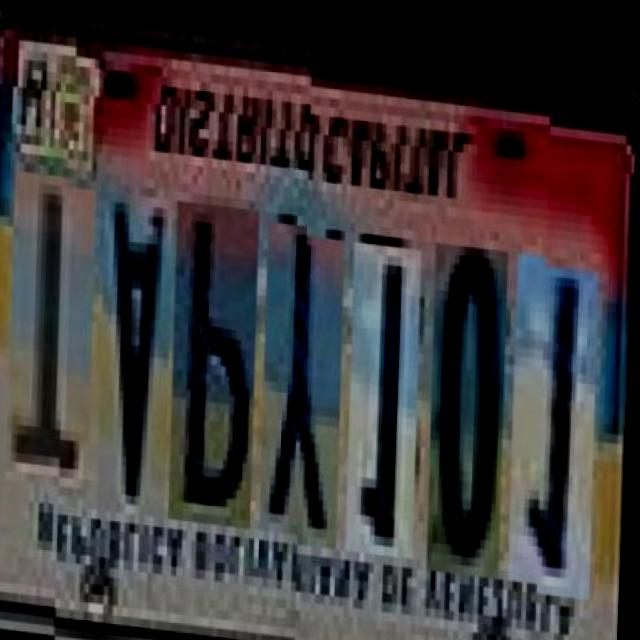1: (511, 238, 605, 575), (349, 232, 427, 547)
a: (99, 198, 177, 523)
o: (429, 230, 513, 565)
p: (172, 204, 263, 531)
t: (8, 189, 100, 505)
y: (262, 223, 350, 540)
